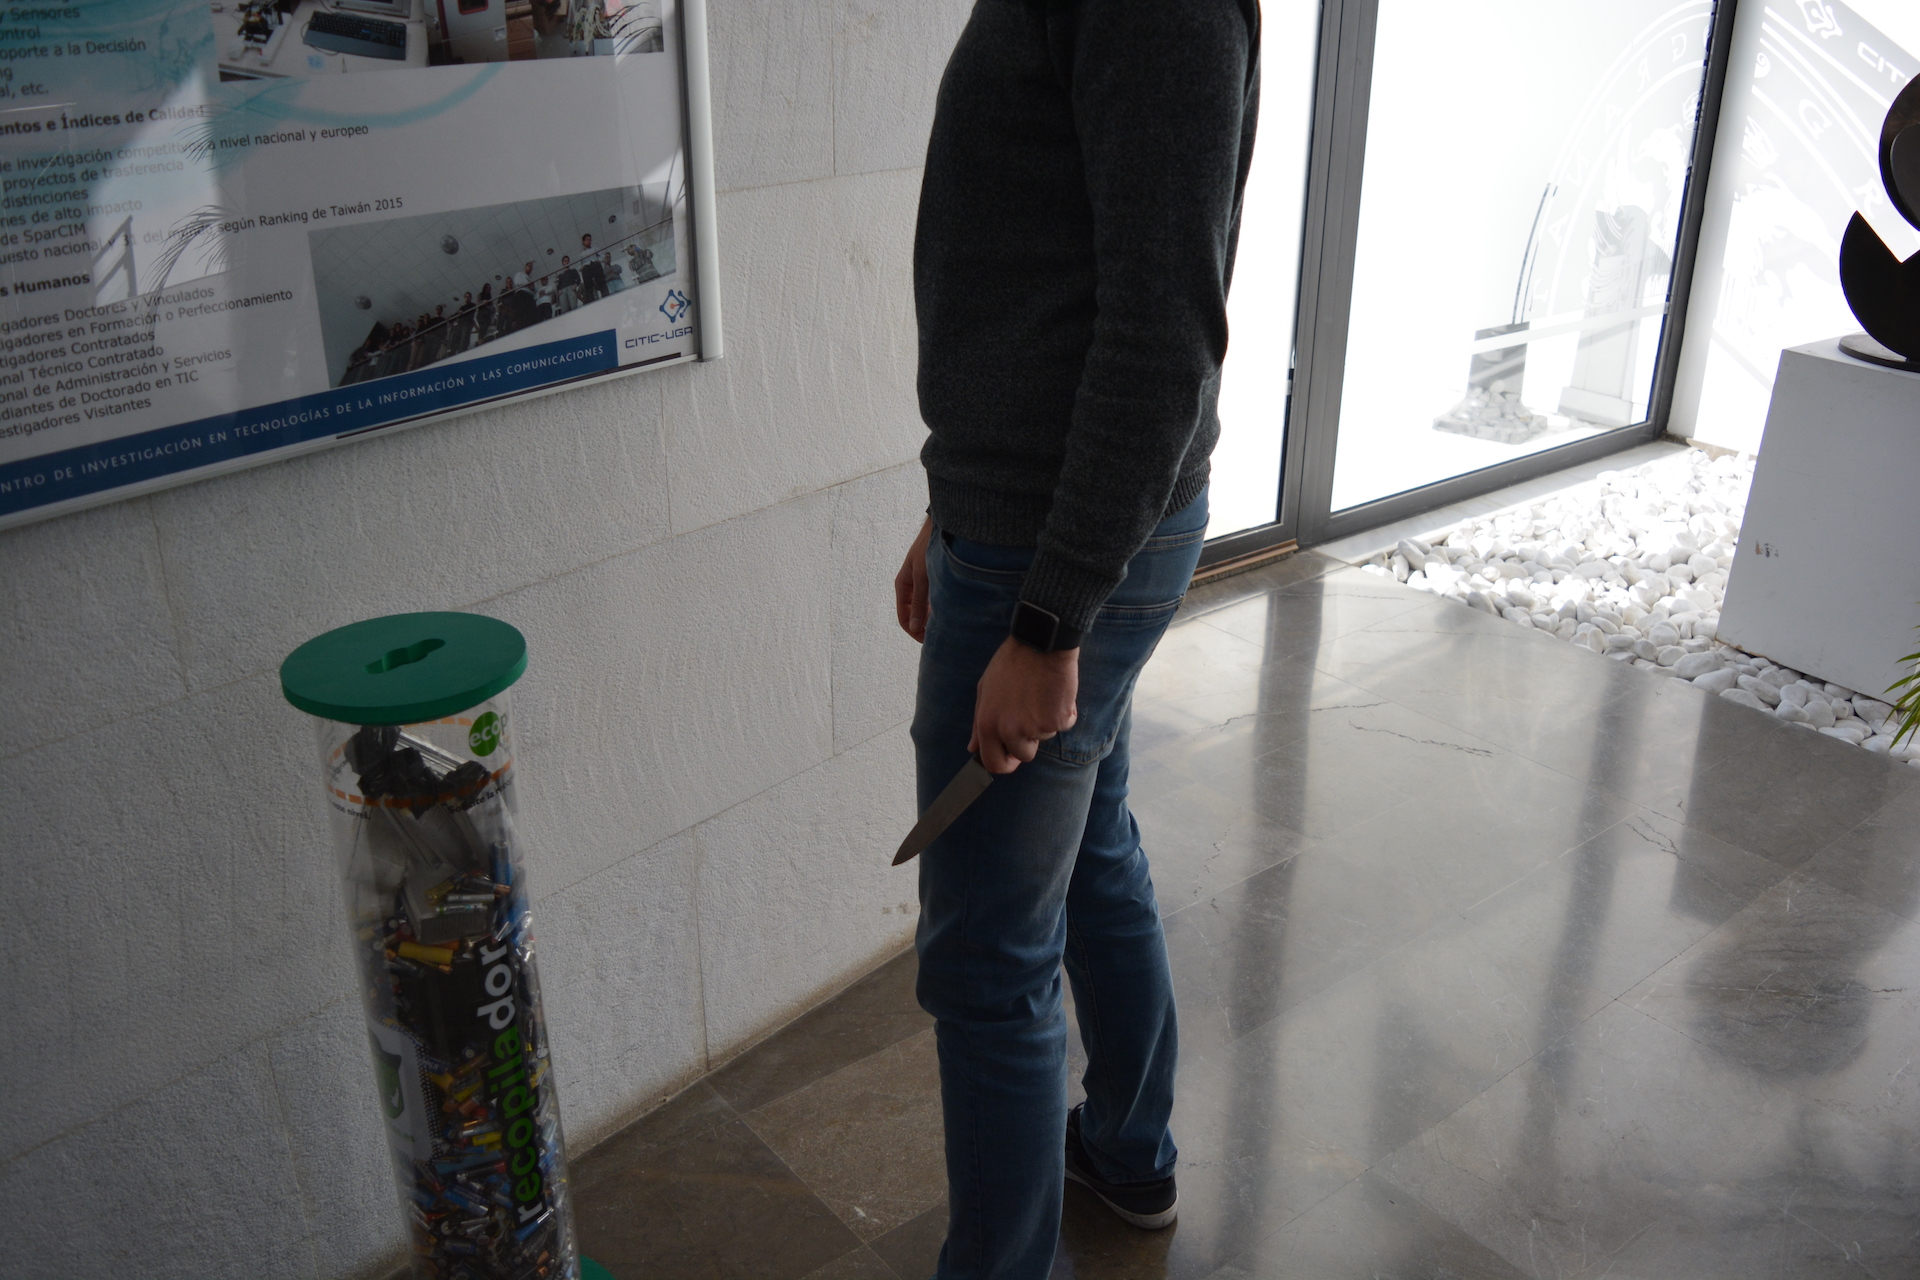knife: (883, 731, 1019, 871)
